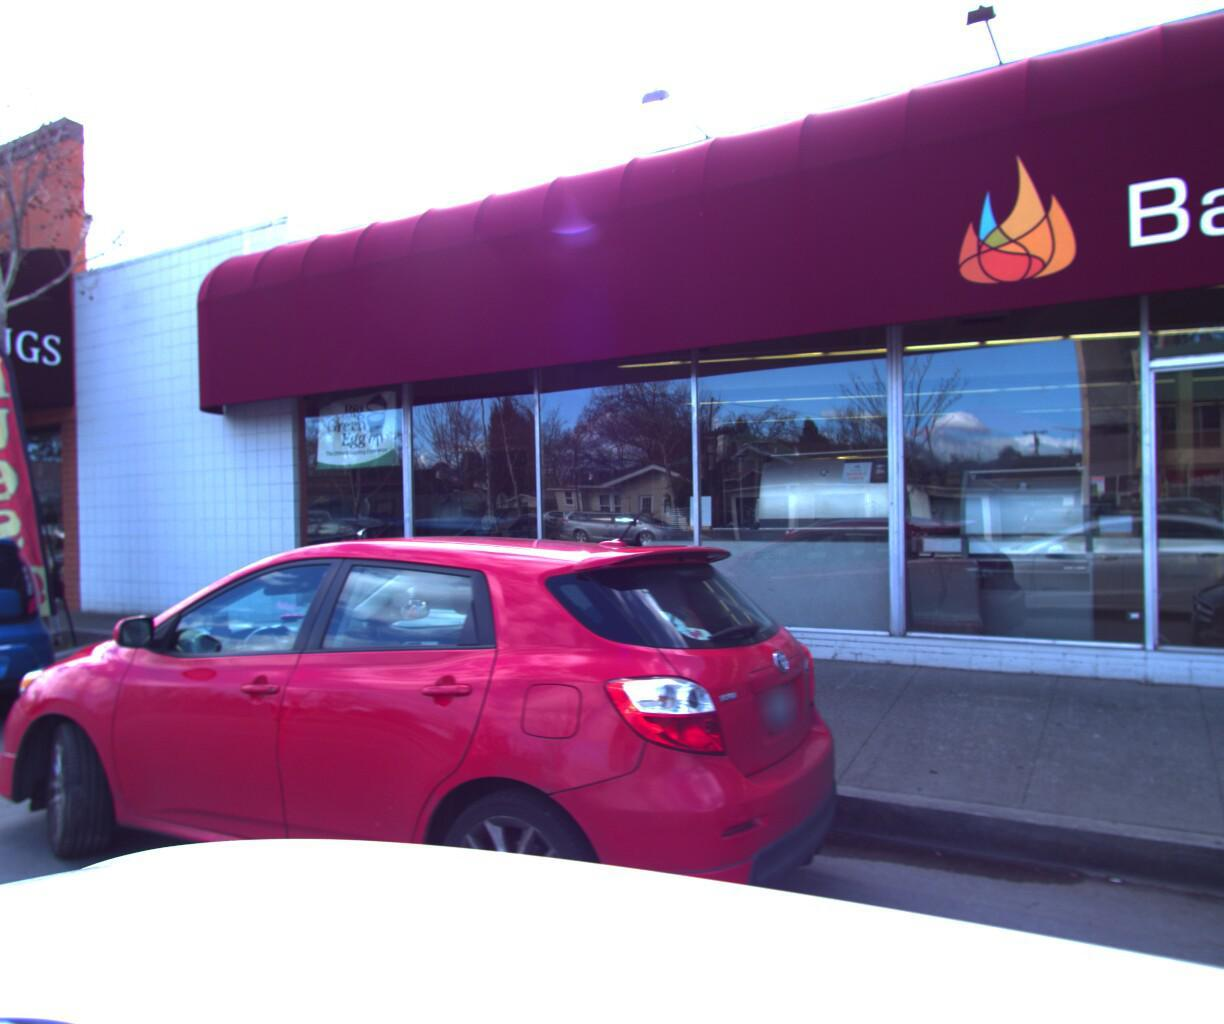car: (0, 528, 864, 1024), (0, 528, 63, 760)
